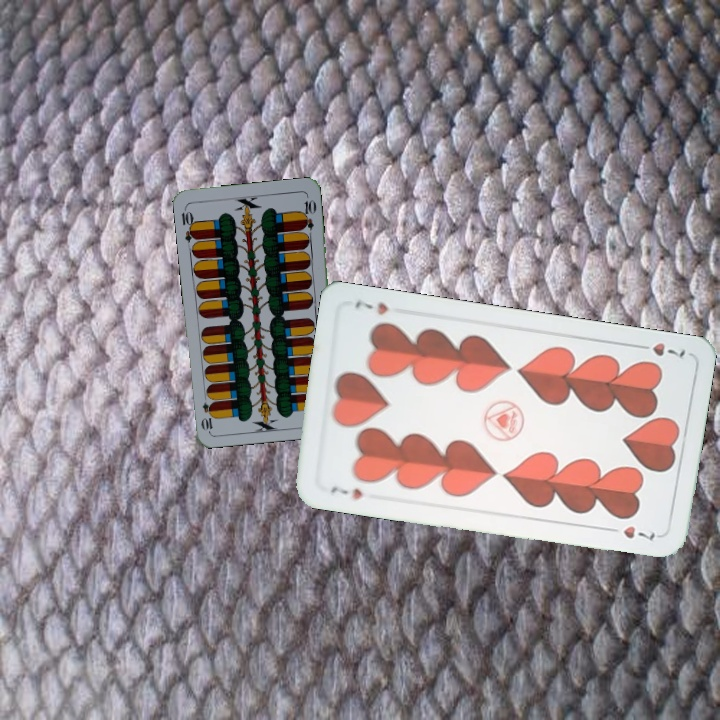E10: (177, 204, 199, 244)
H7: (631, 338, 688, 360), (327, 481, 365, 503)
